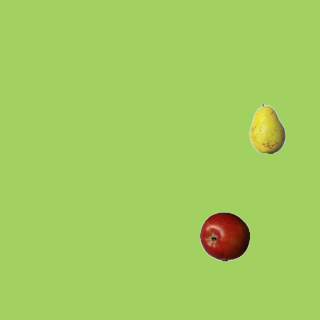Apple Braeburn: (199, 211, 249, 261)
Pear Monster: (242, 103, 292, 153)
